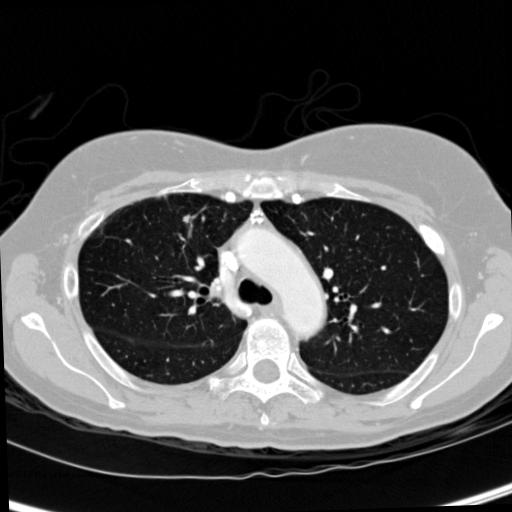nodule: (180, 213, 192, 225)
